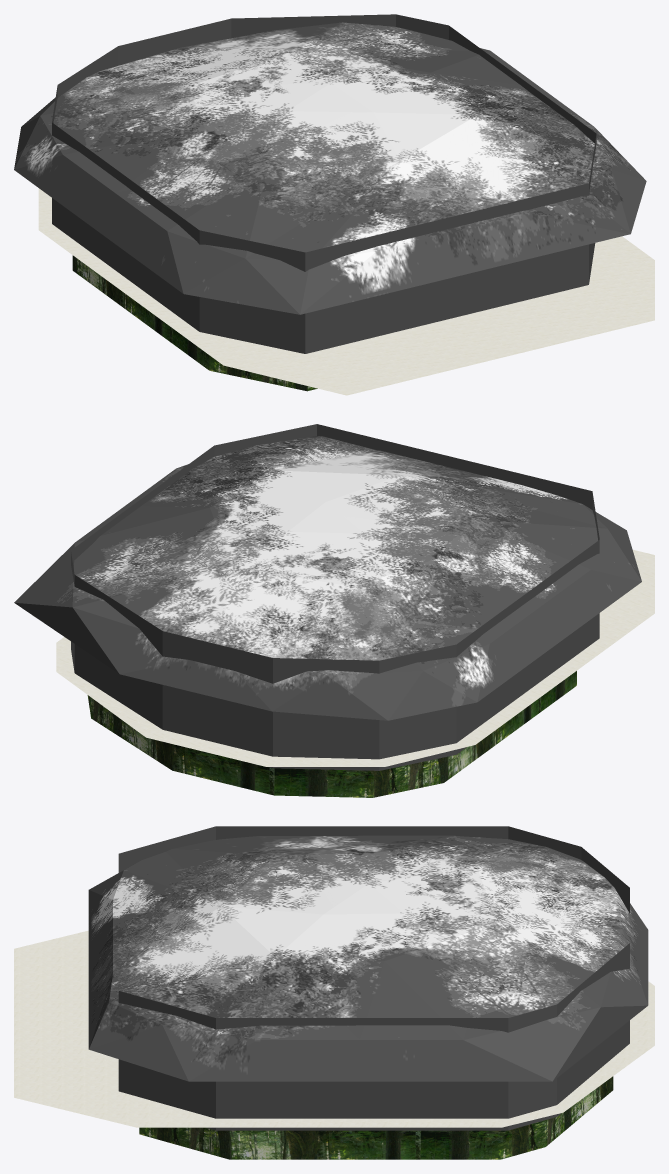
Rendered from DistantSpring.obj.
3 views of the same model, one above another, from view 1: azimuth 30°, elevation 25°; view 2: azimuth 150°, elevation 25°; view 3: azimuth 270°, elevation 25° (orthographic). The views are drawn at different scales.
Bounding box in the file's own units: 24982 × 8864 × 30240.
16 materials, 16 textured.
